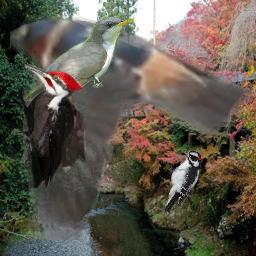Cuckoo: (21, 17, 134, 163)
Swallow: (10, 8, 254, 240)
Woodpecker: (12, 64, 86, 188), (163, 149, 201, 216)
